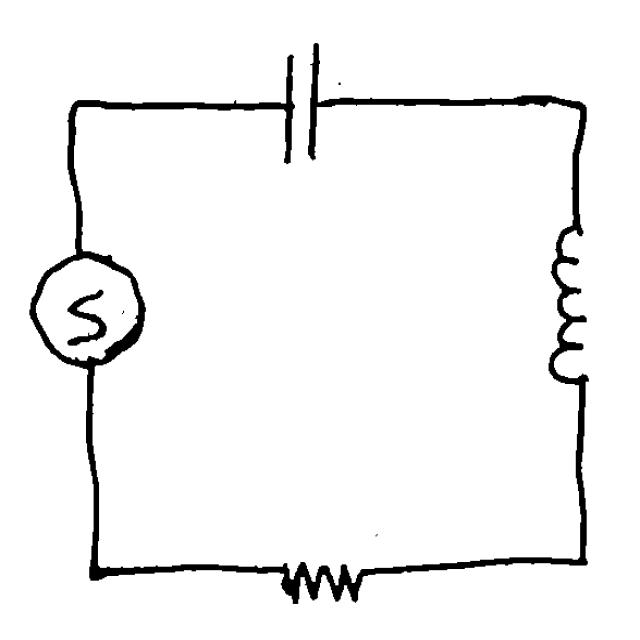ac: (16, 243, 158, 374)
capacitor: (265, 28, 335, 174)
inductor: (541, 204, 605, 413)
resistor: (260, 534, 376, 616)
